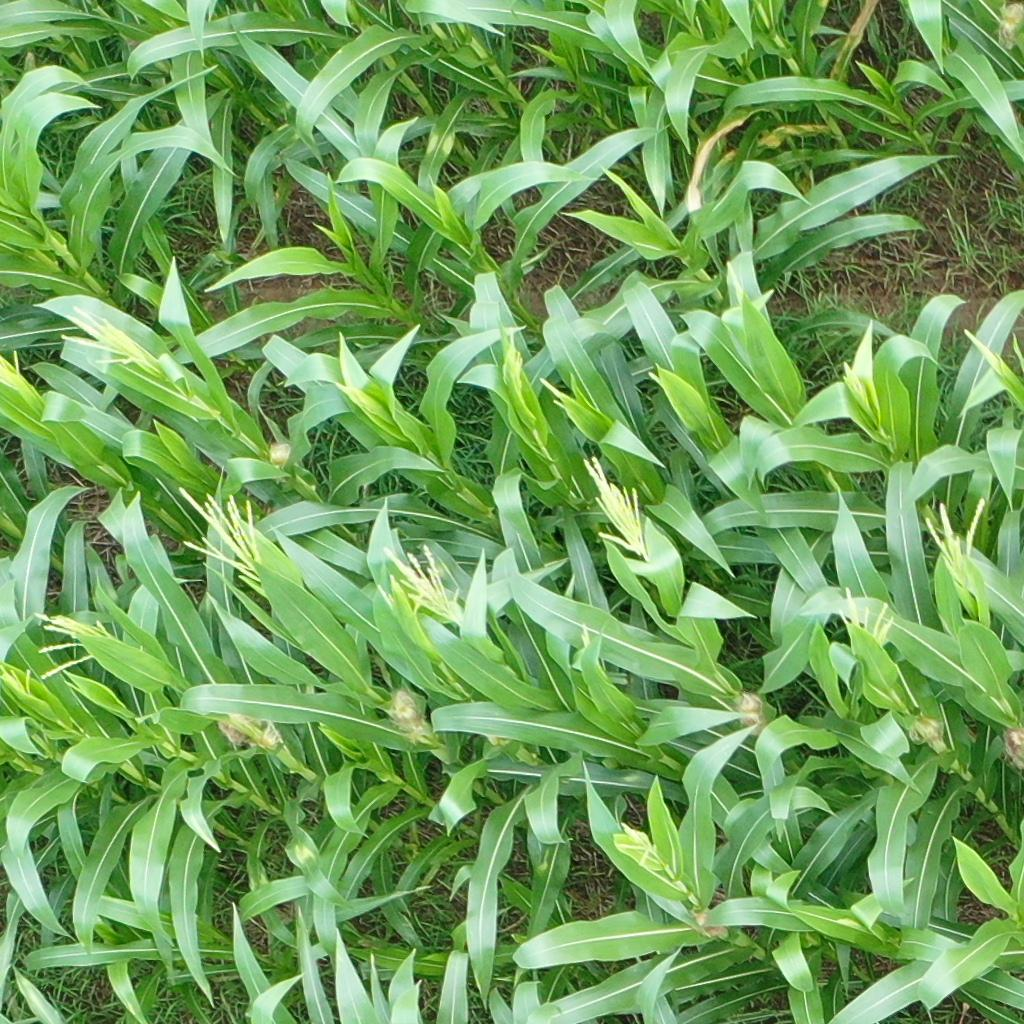Tassel: (172, 482, 278, 592), (57, 301, 171, 380), (581, 453, 652, 565), (377, 541, 467, 623), (28, 608, 118, 680), (916, 495, 985, 584), (830, 583, 893, 648), (611, 823, 667, 874), (496, 320, 533, 397), (1, 343, 46, 404), (541, 371, 586, 412), (570, 619, 598, 670), (3, 661, 37, 698)
